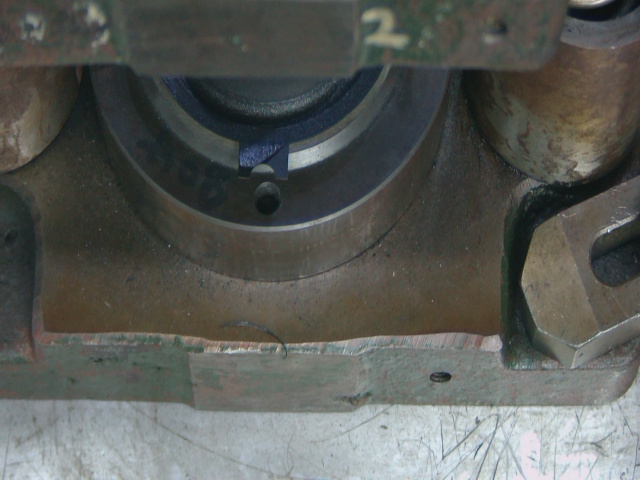NG: (236, 134, 307, 191)
